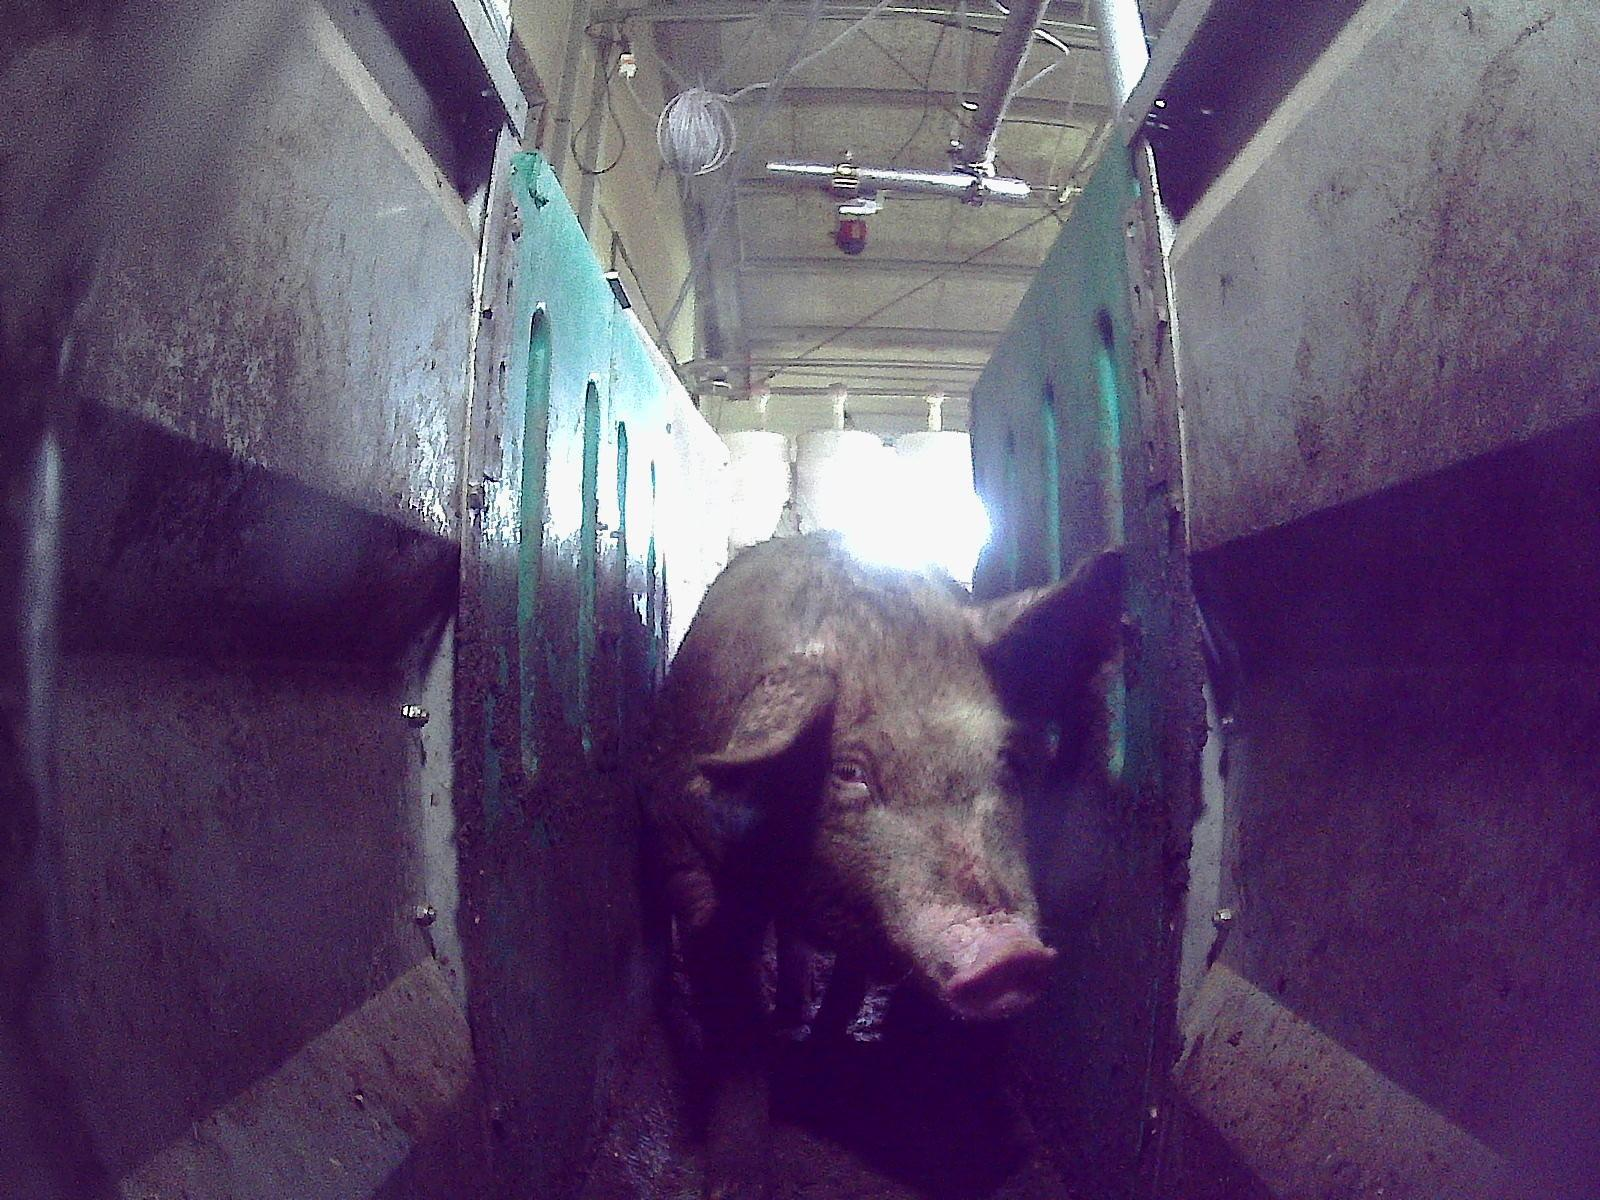Face: (763, 588, 1062, 1025)
